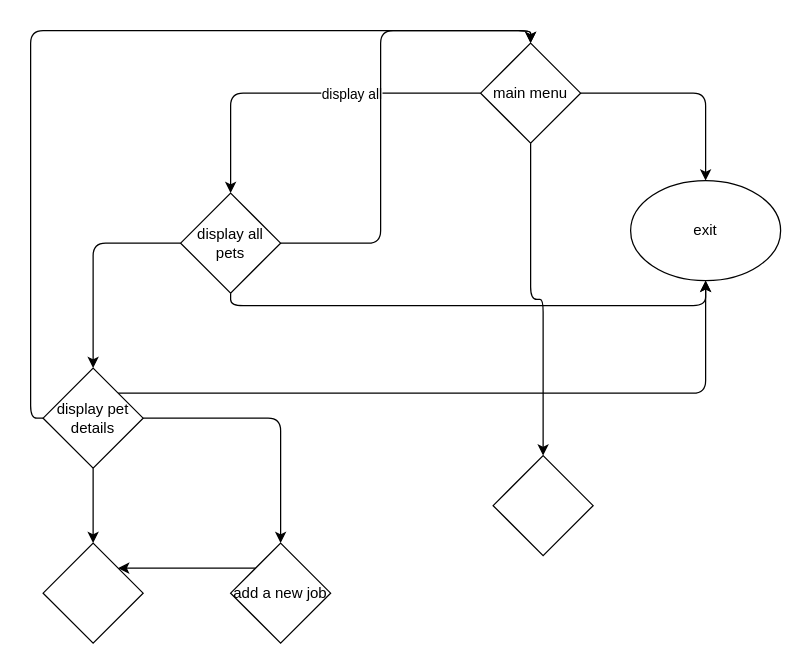
Image size: 803x665. Some labels were removed from this diagram. The centre of each missing label's shape, as x and y in pixels:
add pet: the point at 542,505
see a pet's jobs: the point at 92,592
